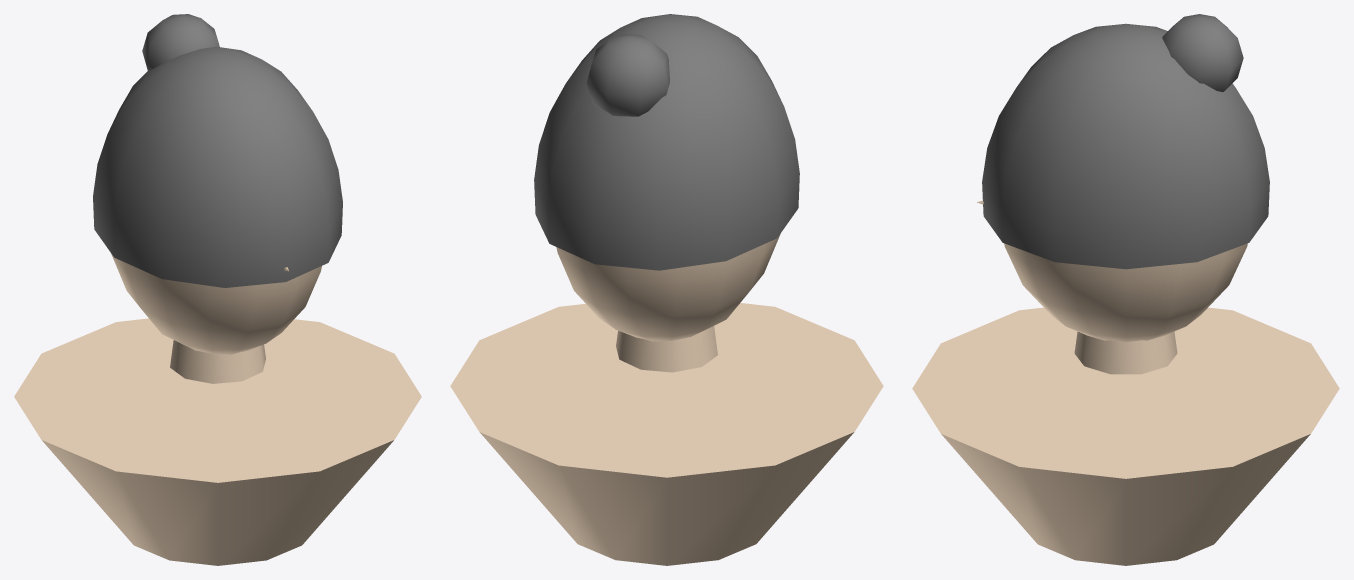
Rendered from portrait13w_002.glb.
3 renders of one model, left to right at view 1: azimuth 30°, elevation 25°; view 2: azimuth 150°, elevation 25°; view 3: azimuth 270°, elevation 25°, orthographic. The views are drawn at different scales.
Size of the model in its own units: 1.74 by 2.27 by 1.74.
